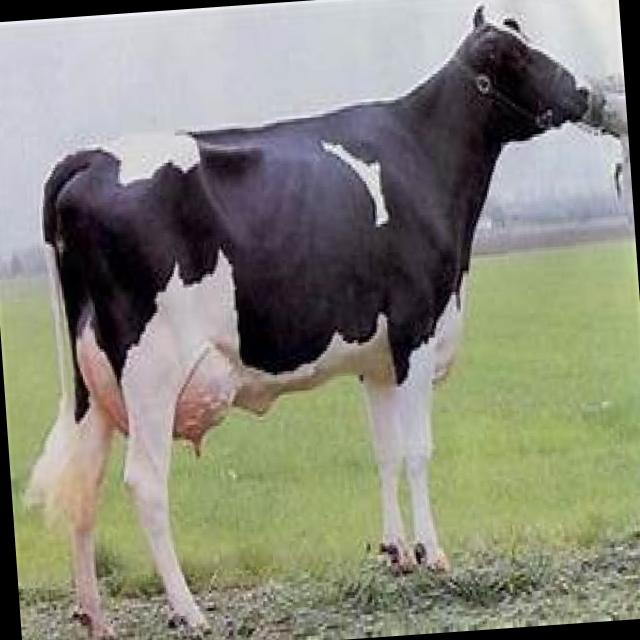cow: (4, 2, 621, 640)
